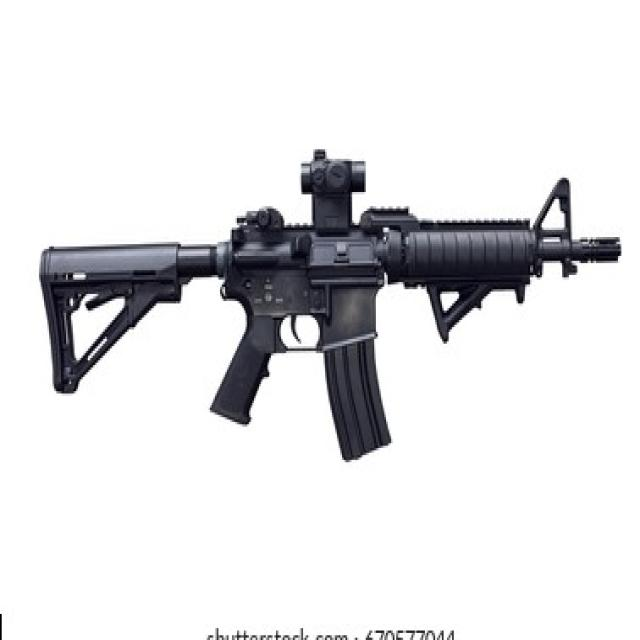Weapon: (41, 149, 620, 457)
